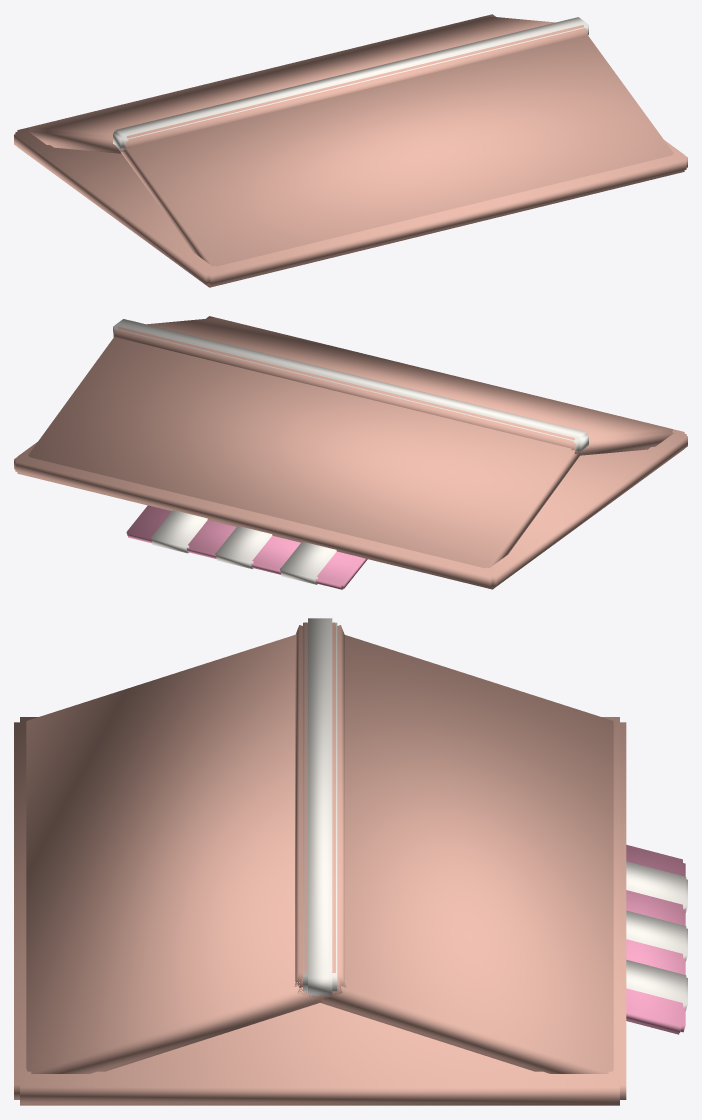
File: CoastalCafe_RoofFade.fbx
3 renders of one model, top to bottom at view 1: azimuth 30°, elevation 25°; view 2: azimuth 150°, elevation 25°; view 3: azimuth 270°, elevation 25°, orthographic. The views are drawn at different scales.
Parts seen in each view (by area): view 1: CoastalCafe_RoofFade; view 2: CoastalCafe_RoofFade; view 3: CoastalCafe_RoofFade.
Boxes of the visible parts, x1,y1,x2,y2 form: CoastalCafe_RoofFade: (14, 14, 687, 287); CoastalCafe_RoofFade: (14, 316, 687, 589); CoastalCafe_RoofFade: (14, 618, 687, 1105).
Size of the model in its own units: 7.1 by 1.44 by 5.5.
